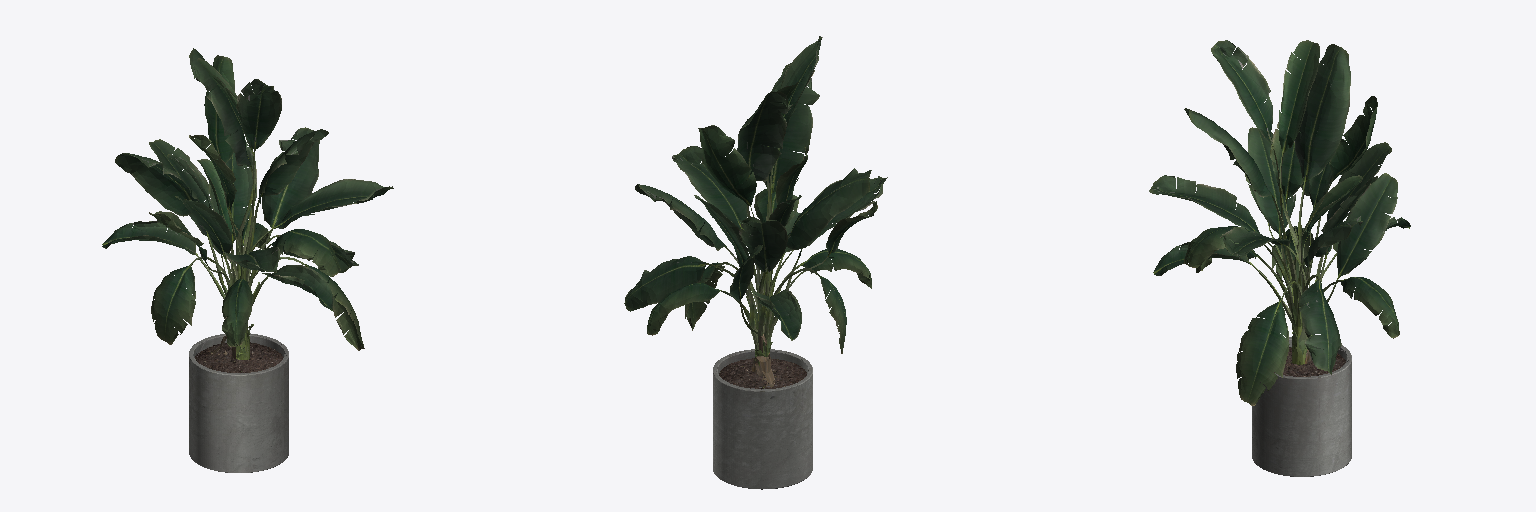
3 renders of one model, left to right at view 1: azimuth 30°, elevation 25°; view 2: azimuth 150°, elevation 25°; view 3: azimuth 270°, elevation 25°, orthographic.
Visible parts, largest first — view 1: solid_001, solid_002, solid_006, solid_008, solid_005, solid_004; view 2: solid_001, solid_002, solid_006, solid_008, solid_005, solid_004, solid_007; view 3: solid_001, solid_002, solid_006, solid_008, solid_005, solid_004.
Boxes of the visible parts, x1,y1,x2,y2 form: solid_001: [102, 48, 393, 310]; solid_002: [189, 333, 288, 472]; solid_006: [149, 135, 364, 350]; solid_008: [197, 55, 252, 234]; solid_005: [190, 151, 304, 359]; solid_004: [195, 342, 283, 372]; solid_001: [624, 36, 887, 340]; solid_002: [713, 349, 812, 489]; solid_006: [647, 145, 877, 353]; solid_008: [698, 82, 798, 227]; solid_005: [707, 166, 827, 365]; solid_004: [719, 358, 806, 388]; solid_007: [752, 334, 775, 387]; solid_001: [1149, 40, 1410, 374]; solid_002: [1252, 337, 1351, 476]; solid_006: [1184, 122, 1399, 405]; solid_008: [1279, 40, 1377, 241]; solid_005: [1250, 144, 1340, 364]; solid_004: [1274, 347, 1345, 376].
Bounding box in the file's own units: 0.9535 × 1.52 × 0.8917.
1 materials, 1 textured.